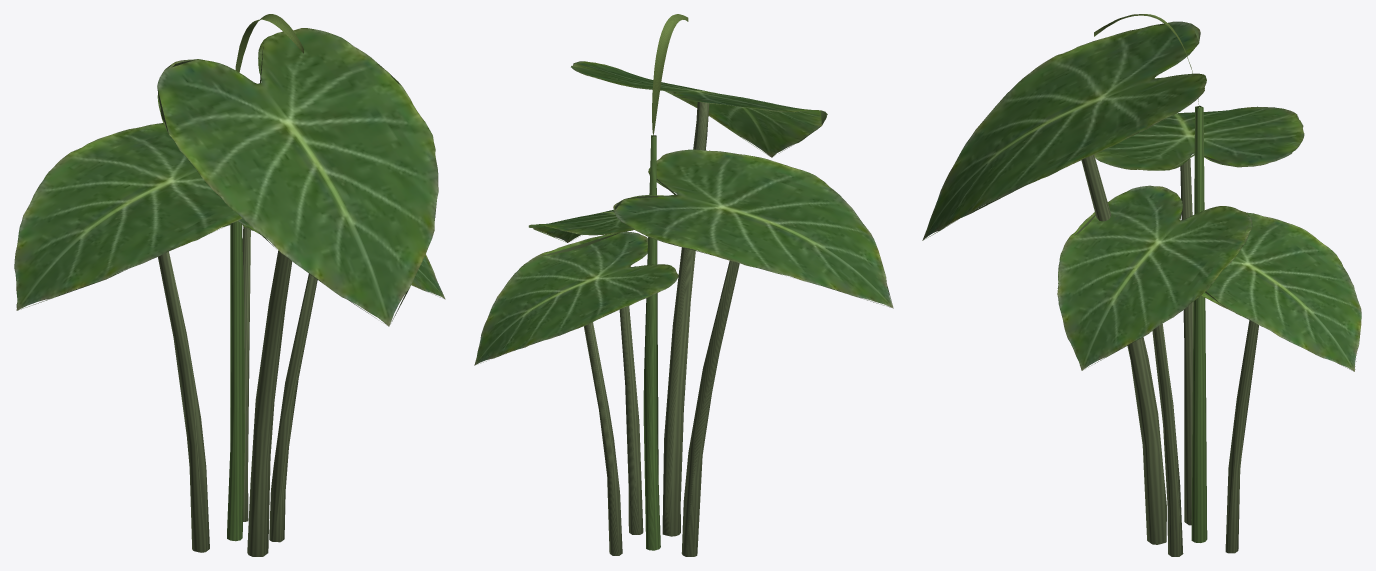
The model's file is taro-2-lite.glb.
3 views of the same model, side by side, from view 1: azimuth 30°, elevation 25°; view 2: azimuth 150°, elevation 25°; view 3: azimuth 270°, elevation 25° (orthographic). The views are drawn at different scales.
Visible parts, largest first — view 1: leaf, petiole, new-leaf; view 2: leaf, petiole, leaf-back, new-leaf, leaf-edge; view 3: leaf, petiole, leaf-edge.
Boxes of the visible parts, bbox=[...] form: leaf: bbox=[14, 28, 445, 326]; petiole: bbox=[158, 221, 317, 556]; new-leaf: bbox=[235, 14, 303, 72]; leaf: bbox=[474, 61, 893, 365]; petiole: bbox=[583, 102, 739, 556]; leaf-back: bbox=[528, 91, 827, 242]; new-leaf: bbox=[652, 14, 688, 135]; leaf-edge: bbox=[480, 61, 892, 363]; leaf: bbox=[922, 21, 1361, 371]; petiole: bbox=[1081, 105, 1258, 556]; leaf-edge: bbox=[923, 22, 1356, 371].
Bounding box in the file's own units: 0.4795 × 0.6324 × 0.4732.
Materials: 5 (4 with a texture image).
